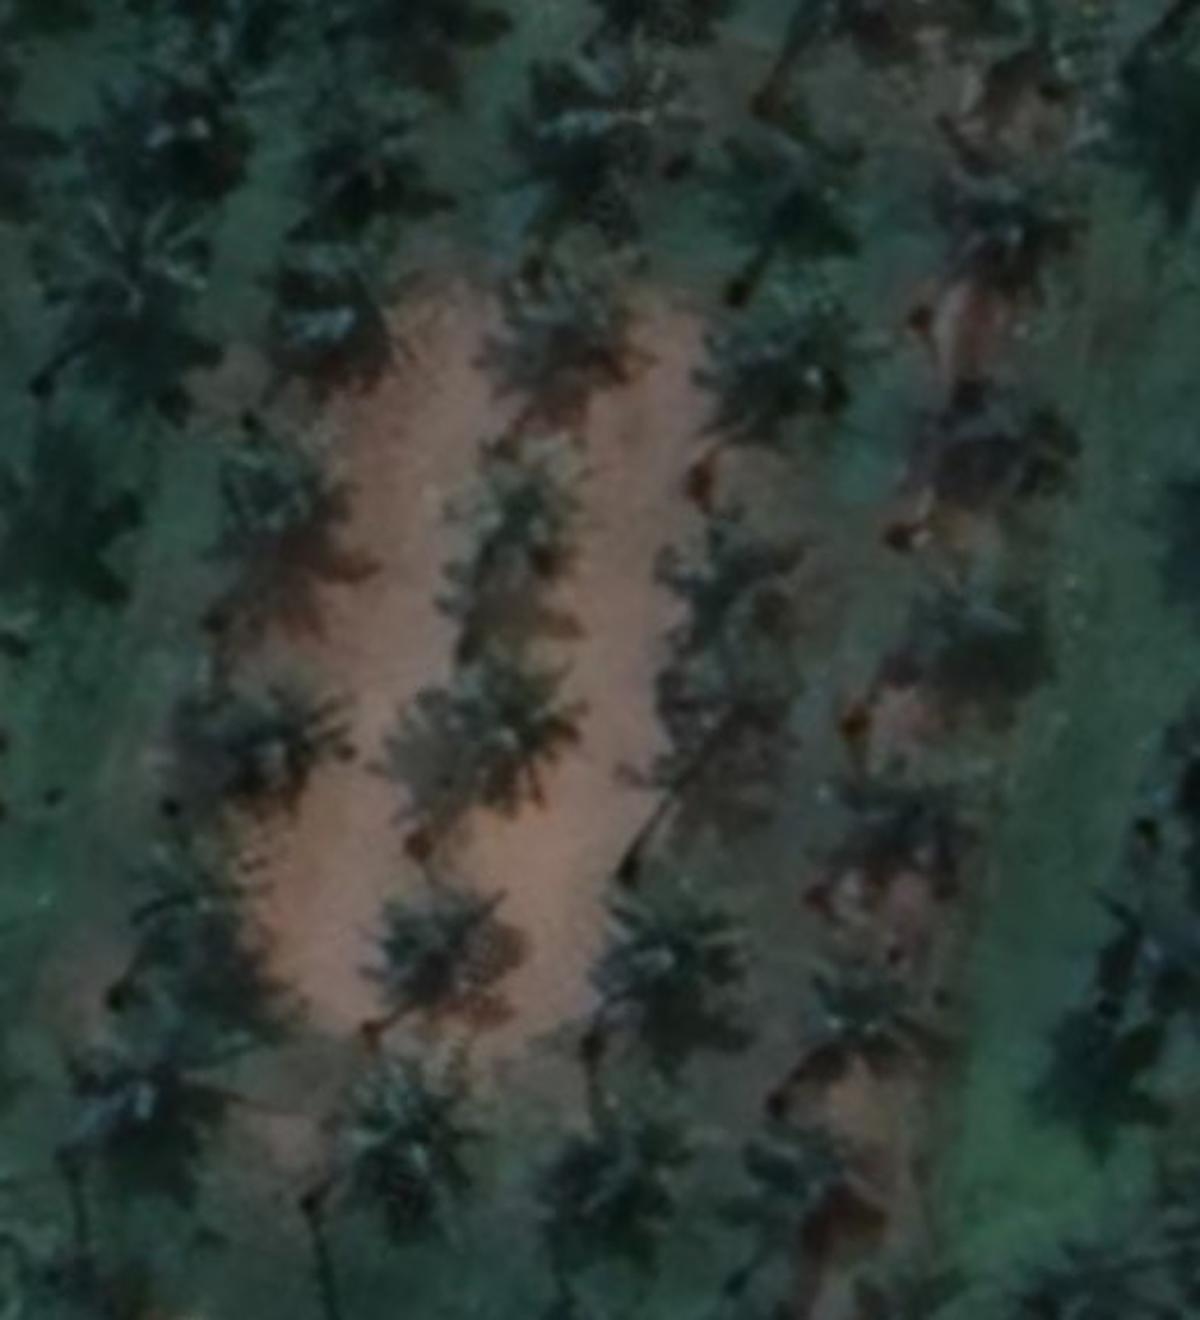coconut: (78, 972, 259, 1169), (597, 877, 771, 1069), (159, 650, 366, 809), (715, 277, 915, 435), (55, 194, 238, 358), (810, 729, 993, 889), (474, 266, 674, 412), (423, 640, 576, 818), (340, 1039, 500, 1208), (251, 215, 421, 370), (544, 60, 741, 187), (697, 97, 861, 250), (933, 377, 1105, 523), (887, 558, 1051, 706), (794, 919, 947, 1074), (372, 875, 509, 1039), (947, 152, 1093, 296), (297, 74, 463, 199), (197, 409, 347, 544), (553, 1100, 703, 1231), (738, 1131, 874, 1273), (456, 435, 589, 578), (655, 528, 806, 649)
